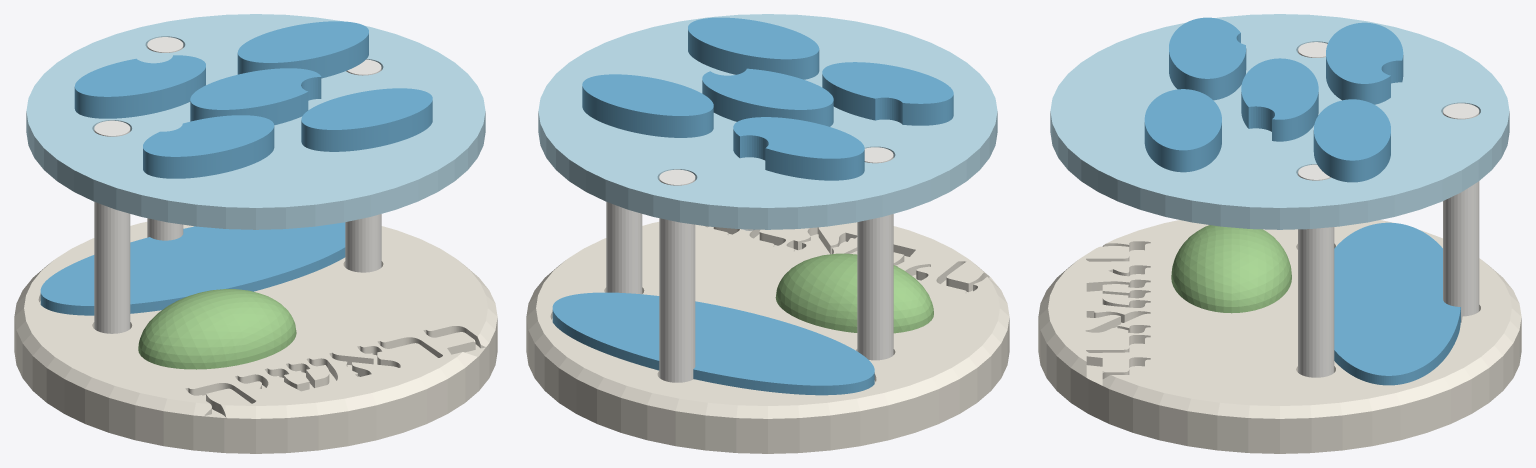
The model's file is bereshit.glb.
The picture shows the model from 3 angles, left to right: view 1: azimuth 30°, elevation 25°; view 2: azimuth 150°, elevation 25°; view 3: azimuth 270°, elevation 25°; orthographic projection.
Visible parts, largest first — view 1: stage, rakia, upper-waters, sea, land, pillar-1, pillar-2, pillar-3; view 2: stage, rakia, upper-waters, sea, land, pillar-3, pillar-1, pillar-2; view 3: stage, rakia, upper-waters, sea, land, pillar-2, pillar-3.
Part boxes in pixels (left/top/right/bottom): stage: left=14, top=222, right=497, bottom=453; rakia: left=26, top=14, right=485, bottom=229; upper-waters: left=74, top=21, right=432, bottom=178; sea: left=40, top=222, right=345, bottom=315; land: left=138, top=289, right=296, bottom=369; pillar-1: left=94, top=120, right=130, bottom=333; pillar-2: left=345, top=59, right=381, bottom=272; pillar-3: left=147, top=37, right=183, bottom=240; stage: left=526, top=222, right=1009, bottom=453; rakia: left=538, top=14, right=997, bottom=229; upper-waters: left=582, top=17, right=953, bottom=180; sea: left=552, top=292, right=874, bottom=395; land: left=775, top=253, right=933, bottom=333; pillar-3: left=659, top=169, right=695, bottom=382; pillar-1: left=857, top=147, right=893, bottom=360; pillar-2: left=606, top=202, right=642, bottom=294; stage: left=1038, top=220, right=1521, bottom=453; rakia: left=1050, top=14, right=1509, bottom=229; upper-waters: left=1144, top=17, right=1403, bottom=182; sea: left=1334, top=222, right=1460, bottom=385; land: left=1171, top=225, right=1291, bottom=313; pillar-2: left=1298, top=164, right=1334, bottom=377; pillar-3: left=1443, top=103, right=1479, bottom=322.
Bounding box in the file's own units: 40 × 24 × 40.
